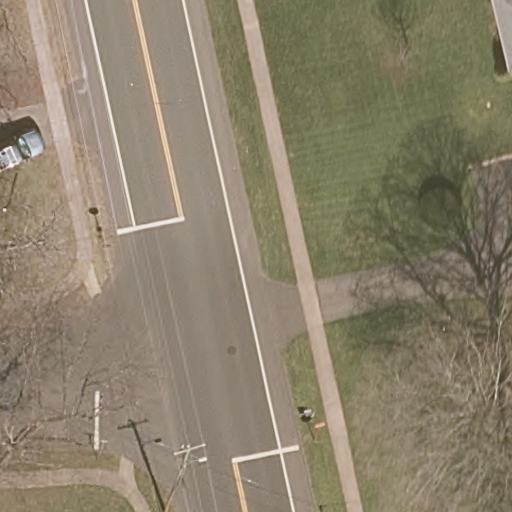DT: (163, 441, 208, 510)
